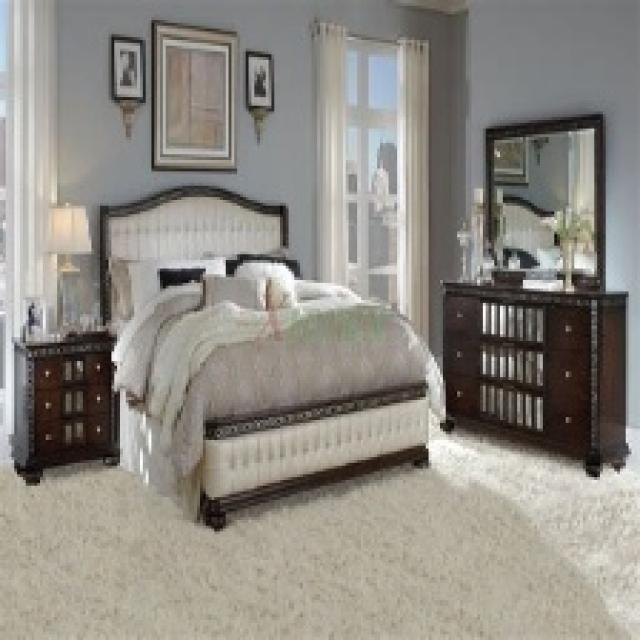Bed: (97, 183, 434, 531)
